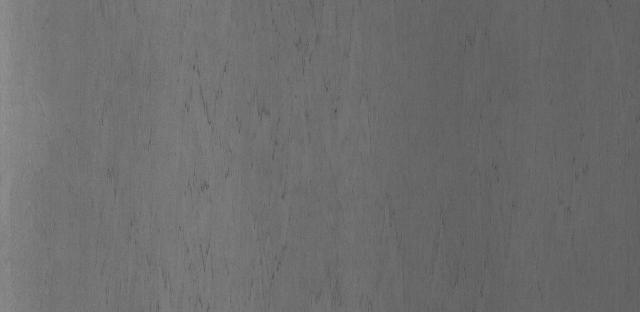silk_spot: (157, 48, 331, 185)
